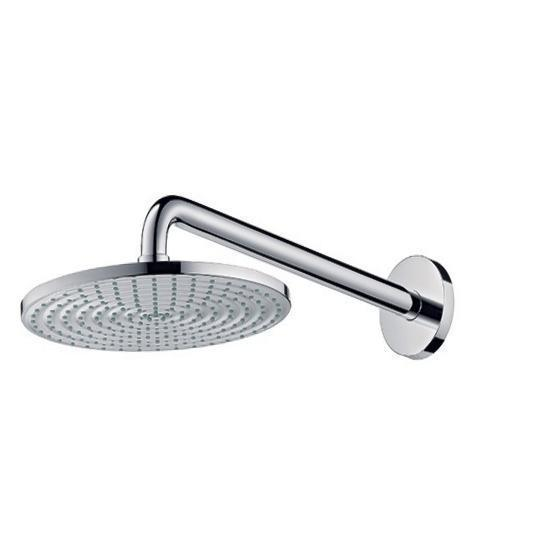Ducha: (51, 167, 450, 399)
